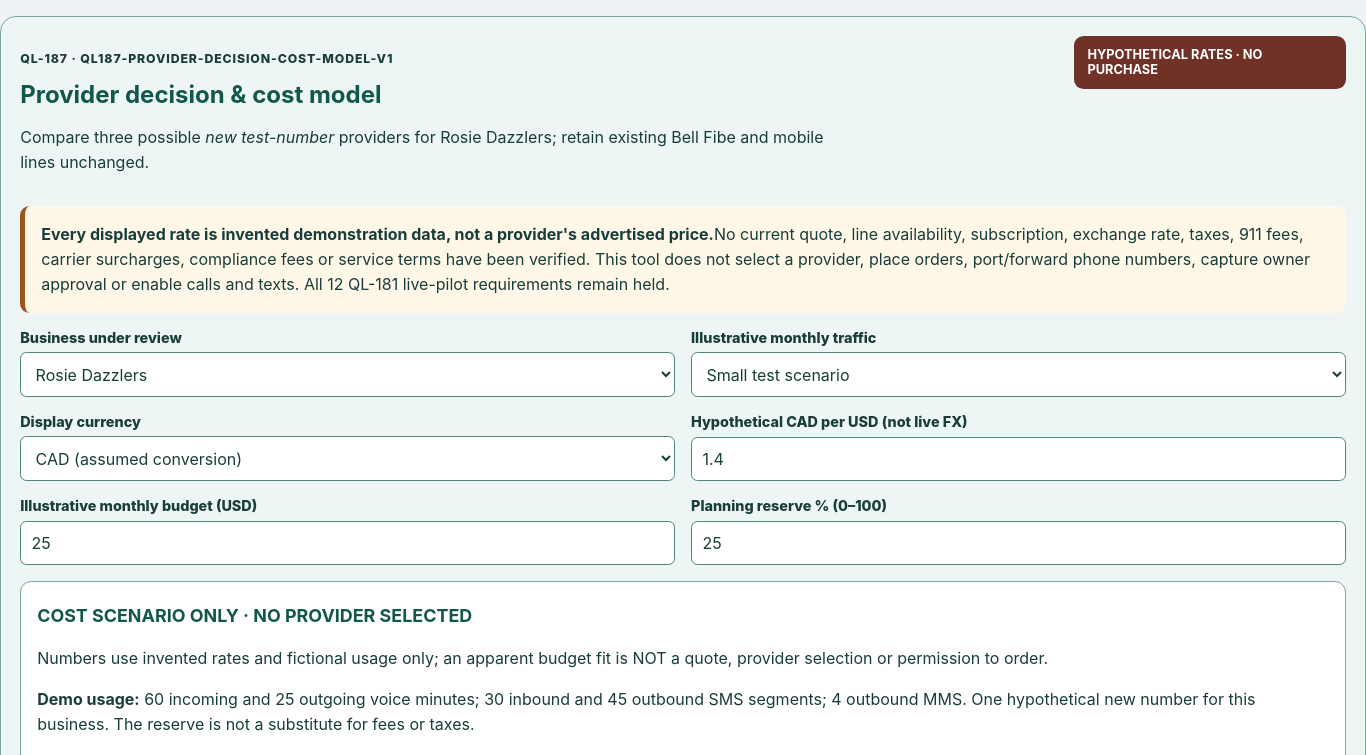
Test case: QL-187 accessible disabled-cost preview › remounts the candidate on a brand switch, clearing other brand assumptions
Select "Devil n Dove" in the dropdown labelled "Business under review". click: (348, 375)
box: [20,352,675,397]
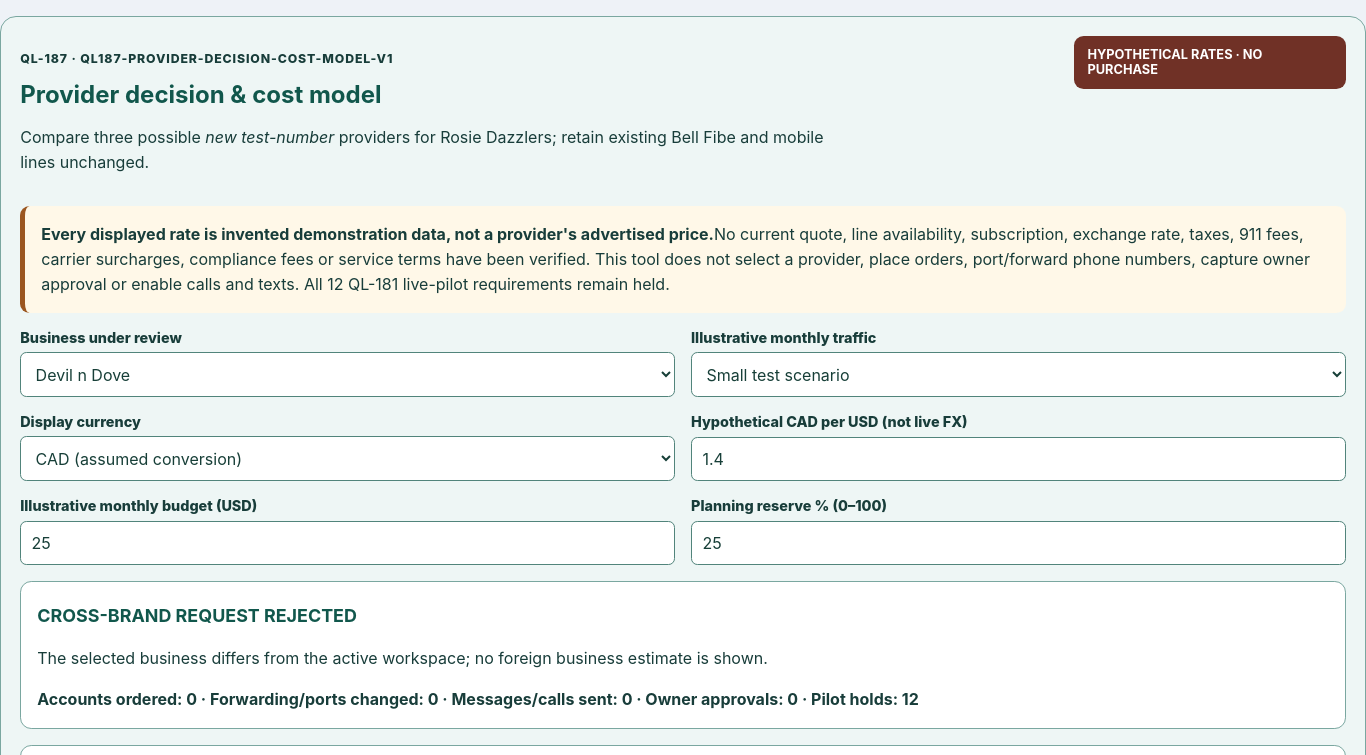
Select "Busy illustrative month" in the dropdown labelled "Illustrative monthly traffic". click: (1018, 375)
box: [691,352,1346,397]
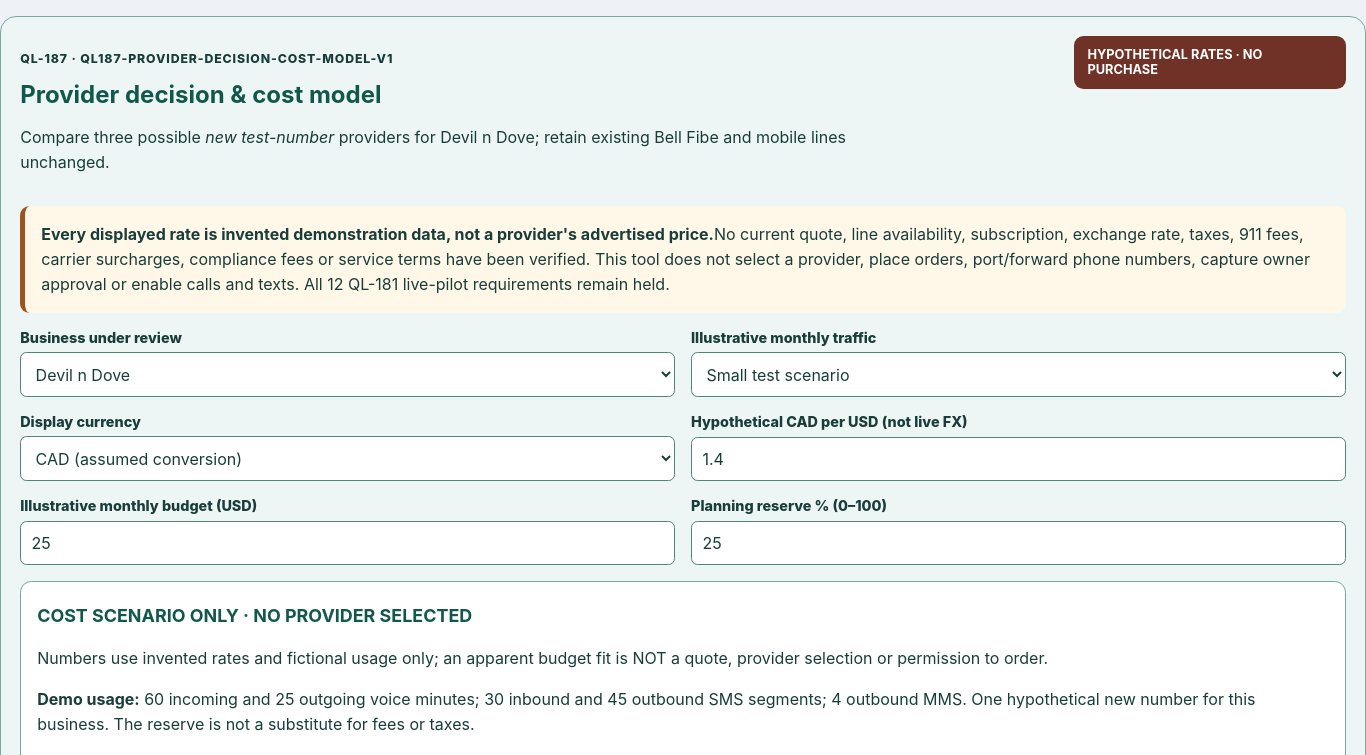
Expected: the dropdown labelled "Business under review" shows "Devil n Dove", [20,352,675,397]
Expected: the text "for Devil n Dove" is shown, [20,125,852,174]
